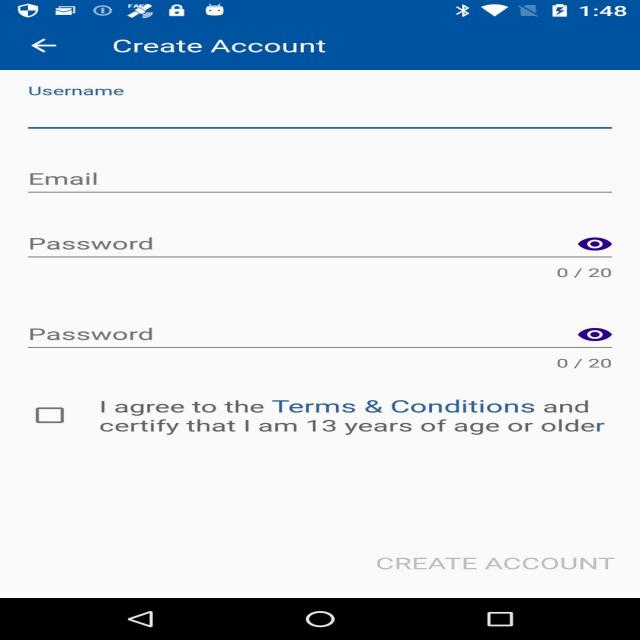button: (356, 538, 631, 582), (27, 394, 80, 434)
icon: (552, 224, 625, 254), (21, 29, 73, 61), (568, 320, 616, 344)
text: (85, 392, 616, 447), (94, 34, 352, 61), (20, 226, 168, 261), (23, 322, 171, 347), (18, 80, 151, 107), (21, 165, 114, 197), (550, 350, 626, 378), (550, 259, 618, 290)
